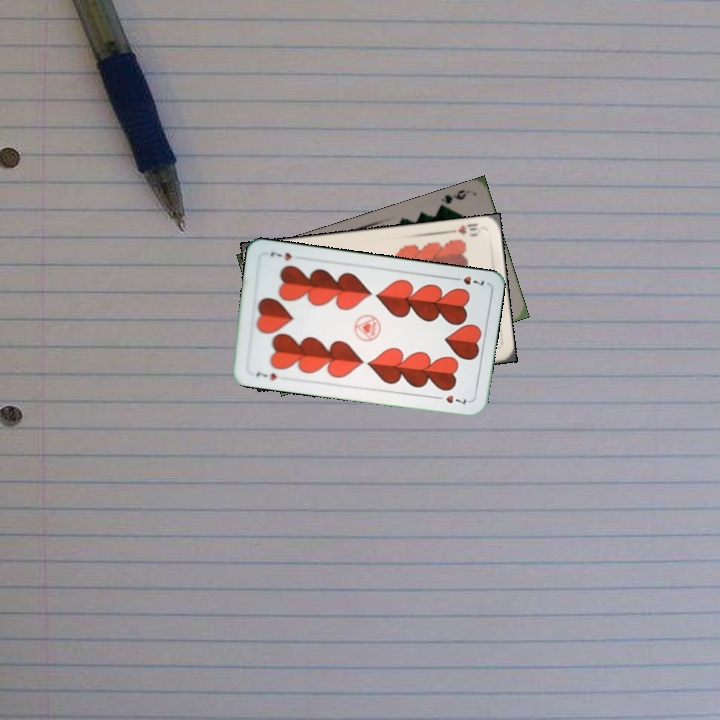G9: (435, 185, 469, 211)
H10: (444, 219, 480, 239)
H7: (448, 272, 487, 288), (252, 368, 279, 383)
